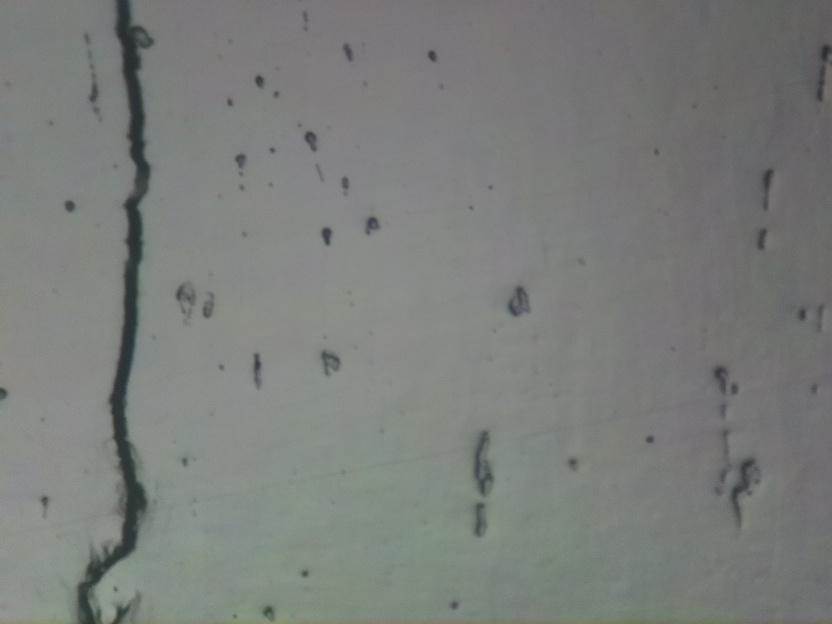crack: (72, 0, 151, 622)
